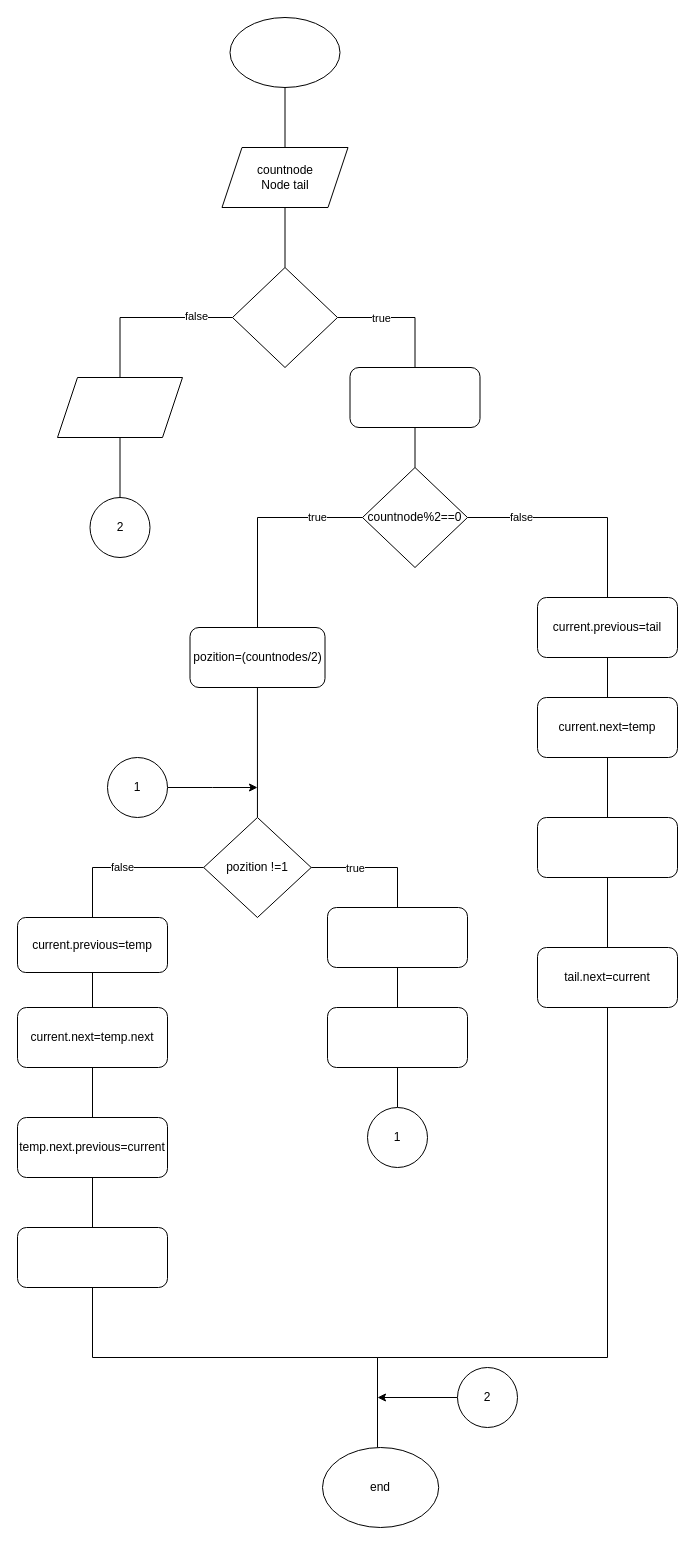
This 695x1545 diagram has some shape labels left out. The centre of each missing label's shape, as x and y in pixels:
pozition=pozition-1: pixel 397 1037
start: pixel 284 52
tail != null: pixel 285 317
temp.next=current: pixel 92 1257
temp.previous=current: pixel 607 847
temp=tail.next: pixel 414 397
temp=temp.next: pixel 397 937
Список порожній: pixel 119 407
